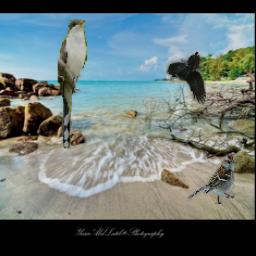Crow: (167, 52, 207, 105)
Cuckoo: (59, 20, 88, 149)
Sparrow: (188, 154, 235, 205)
